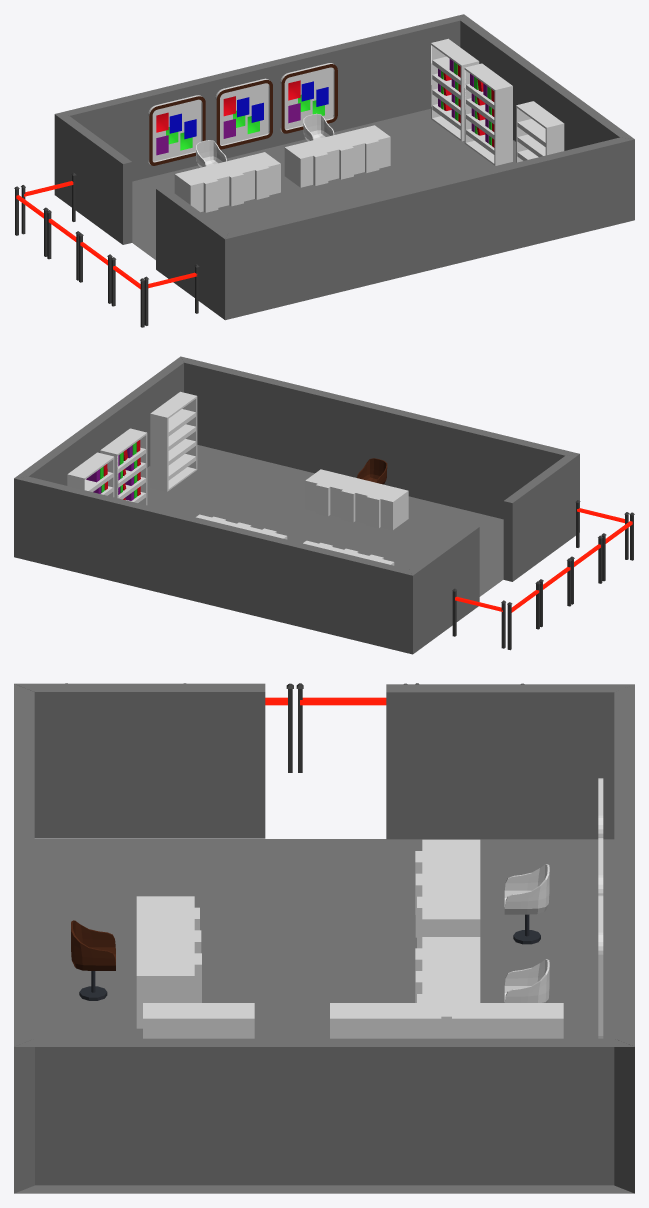
Rendered from MarketingRoom.fbx.
The picture shows the model from 3 angles, top to bottom: view 1: azimuth 30°, elevation 25°; view 2: azimuth 150°, elevation 25°; view 3: azimuth 270°, elevation 25°; orthographic projection. The views are drawn at different scales.
Visible parts, largest first — view 1: Cube.139, Cube.107, Cube.106, Cube.110, Plane.004, Plane.013, Plane.010, Cube.109, Cube.126, Cube.133, Cube.132, Cube.112 (+5 smaller); view 2: Cube.139, Cube.108, Cube.126, Cube.110, Cube.109, Cube.132, Cube.113, Cube.133, Cube.129, Cube.017, Cube.131, Cube.130 (+2 smaller); view 3: Cube.139, Cube.108, Cube.106, Cube.107, Cube.109, Cube.110, Cube.126, Cube.111, Cube.113, Cube.112, Cube.017, Plane.010.
Part boxes in pixels (x1,y1,x2,y2): Cube.139: (54, 14, 634, 320); Cube.107: (284, 125, 390, 187); Cube.106: (174, 152, 280, 212); Cube.110: (464, 63, 512, 165); Plane.004: (215, 78, 272, 149); Plane.013: (148, 95, 205, 165); Plane.010: (280, 63, 337, 133); Cube.109: (431, 38, 479, 141); Cube.126: (516, 101, 564, 162); Cube.133: (144, 264, 199, 325); Cube.132: (21, 172, 76, 234); Cube.112: (303, 113, 334, 141); Cube.139: (14, 356, 579, 654); Cube.108: (305, 469, 408, 529); Cube.126: (150, 391, 197, 491); Cube.110: (100, 428, 147, 505); Cube.109: (67, 452, 114, 497); Cube.132: (452, 588, 505, 648); Cube.113: (357, 458, 387, 484); Cube.133: (575, 500, 629, 559); Cube.129: (507, 581, 540, 650); Cube.017: (538, 558, 571, 627); Cube.131: (601, 512, 634, 581); Cube.130: (570, 535, 602, 604); Cube.139: (14, 683, 634, 1193); Cube.108: (136, 896, 201, 1028); Cube.106: (415, 839, 480, 948); Cube.107: (415, 937, 480, 1038); Cube.109: (452, 1003, 563, 1038); Cube.110: (330, 1003, 441, 1038); Cube.126: (143, 1003, 254, 1038); Cube.111: (504, 864, 549, 944); Cube.113: (71, 920, 115, 1000); Cube.112: (504, 959, 549, 1002); Cube.017: (296, 683, 407, 772); Plane.010: (598, 895, 603, 1038).
Size of the model in its own units: 6649 by 1081 by 4105.
